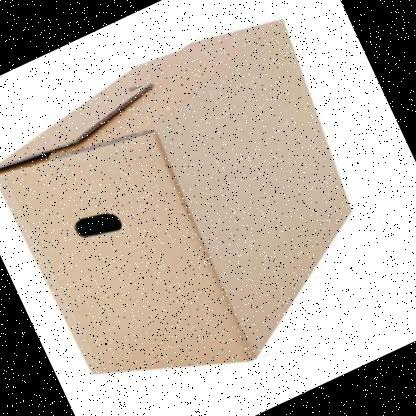box: (1, 18, 352, 373)
normal_hole: (74, 213, 122, 237)
